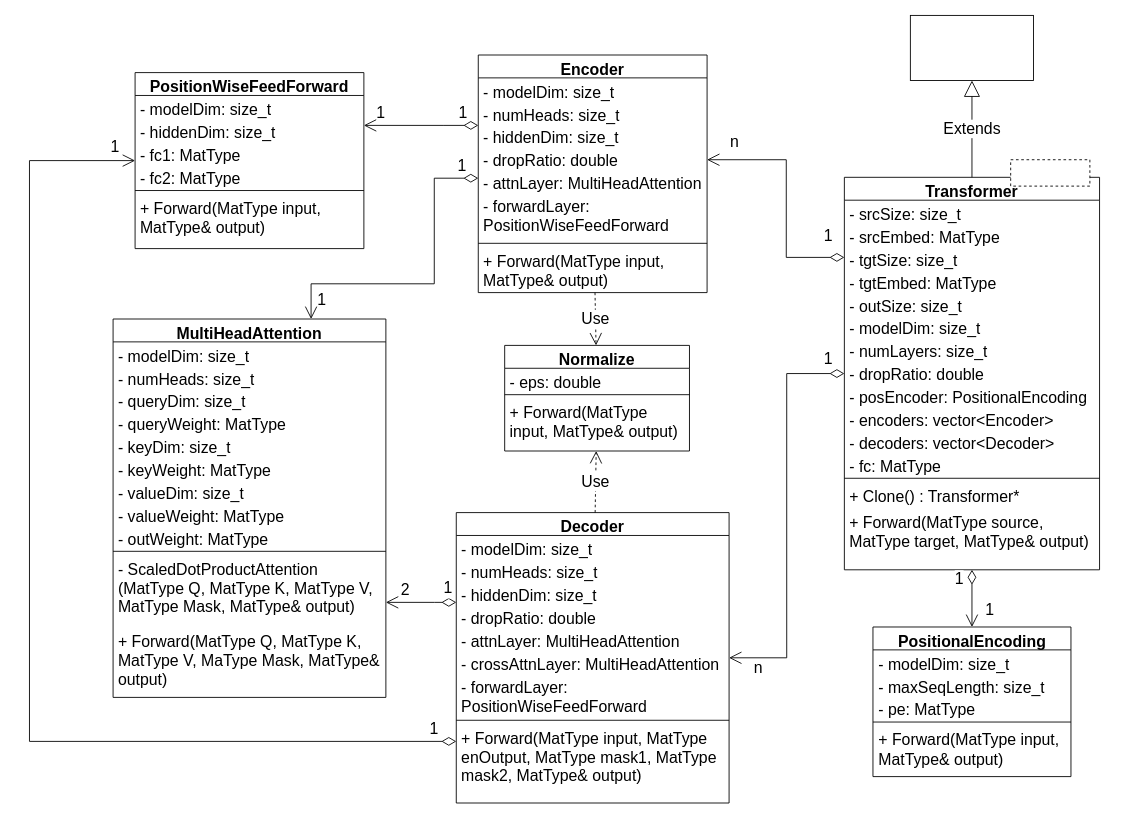
Some shapes in this 1124 by 821 pixel diagram are drawn without their labels. The centre of each missing label's shape, as x and y in pixels:
"MatType" goes at (1050,172).
"mlpack::Layer" goes at (971,48).
